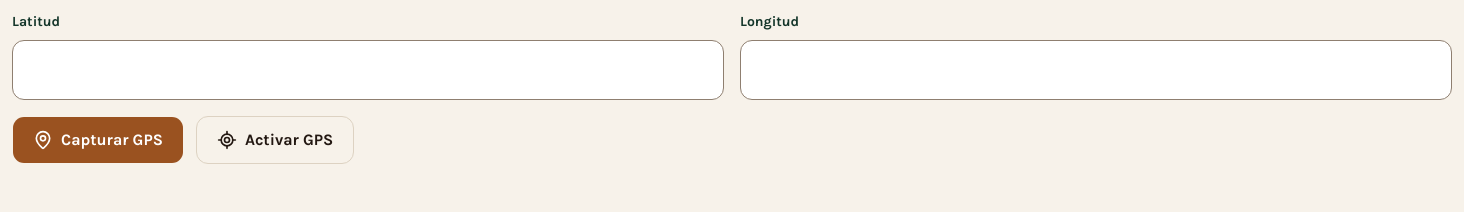
Scenario: farm location capture › with the GPS warmed up › turns the GPS on while it captures when it was off, so the next one is instant
The width and height of the screenshot is (1464, 212).
Click the button "Capturar GPS".
click(98, 140)  # box [12, 116, 184, 164]
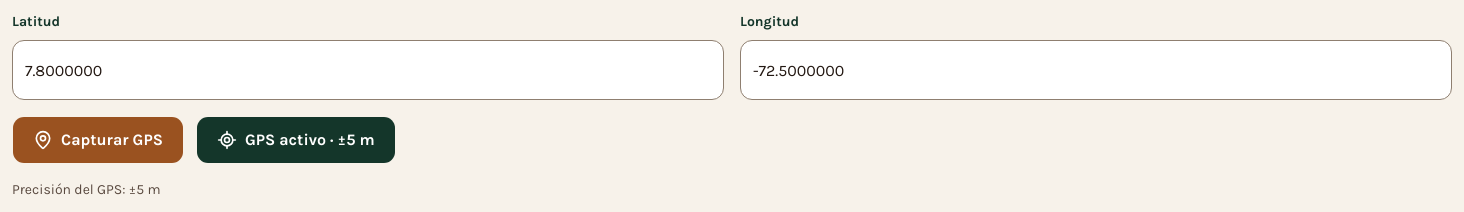
Now the button "GPS activo · ±5 m" is shown, box [196, 116, 396, 164]
